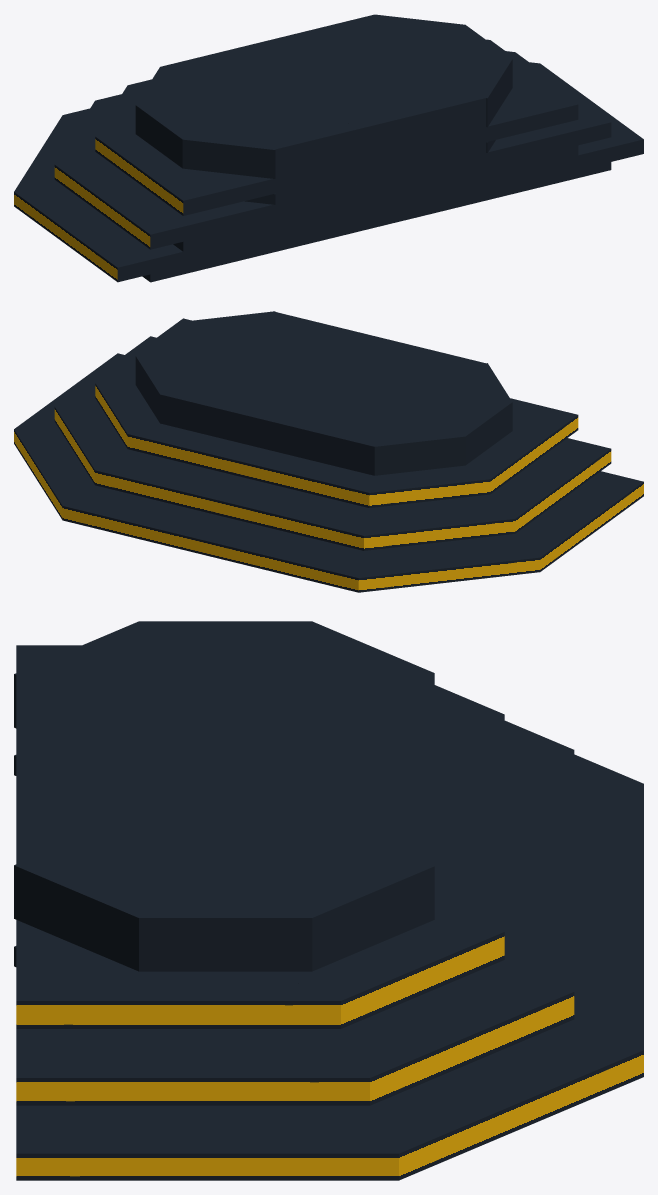
Rendered from clu_back_stairs.obj.
3 views of the same model, one above another, from view 1: azimuth 30°, elevation 25°; view 2: azimuth 150°, elevation 25°; view 3: azimuth 270°, elevation 25° (orthographic). The views are drawn at different scales.
Parts seen in each view (by area): view 1: octagon.048, octagon.042, octagon.036, octagon.025, octagon.001, octagon.011, octagon.017, octagon.023, octagon.026, octagon.024, octagon.002, octagon.000 (+21 smaller); view 2: octagon.047, octagon, octagon.024, octagon.048, octagon.042, octagon.041, octagon.028, octagon.002, octagon.040, octagon.015, octagon.021, octagon.046 (+21 smaller); view 3: octagon.023, octagon.017, octagon.011, octagon.000, octagon.022, octagon.016, octagon, octagon.024, octagon.025, octagon.003, octagon.002, octagon.027 (+19 smaller).
Part boxes in pixels (box(x1,y1,x2,y2)): octagon.048: box(14, 181, 356, 282); octagon.042: box(54, 155, 356, 249); octagon.036: box(95, 126, 356, 215); octagon.025: box(182, 96, 302, 178); octagon.001: box(351, 67, 487, 146); octagon.011: box(405, 40, 578, 161); octagon.017: box(405, 52, 611, 187); octagon.023: box(405, 63, 643, 211); octagon.026: box(226, 90, 356, 178); octagon.024: box(160, 46, 301, 109); octagon.002: box(346, 14, 464, 69); octagon.000: box(383, 47, 512, 127); octagon.047: box(337, 539, 540, 592); octagon: box(160, 351, 301, 443); octagon.024: box(291, 383, 425, 475); octagon.048: box(466, 471, 643, 571); octagon.042: box(440, 438, 611, 533); octagon.041: box(364, 490, 515, 550); octagon.028: box(370, 382, 512, 464); octagon.002: box(135, 344, 265, 422); octagon.040: box(253, 487, 407, 550); octagon.015: box(95, 447, 234, 511); octagon.021: box(62, 497, 214, 550); octagon.046: box(235, 526, 358, 592); octagon.023: box(16, 1093, 398, 1180); octagon.017: box(16, 1029, 369, 1105); octagon.011: box(16, 920, 340, 1028); octagon.000: box(14, 805, 275, 971); octagon.022: box(384, 1020, 643, 1180); octagon.016: box(259, 991, 574, 1105); octagon: box(216, 791, 434, 866); octagon.024: box(216, 673, 434, 747); octagon.025: box(14, 621, 279, 733); octagon.003: box(139, 866, 312, 971); octagon.002: box(198, 822, 434, 971); octagon.027: box(172, 621, 433, 733).
Bounding box in the file's own units: 5.34 × 0.9945 × 3.
